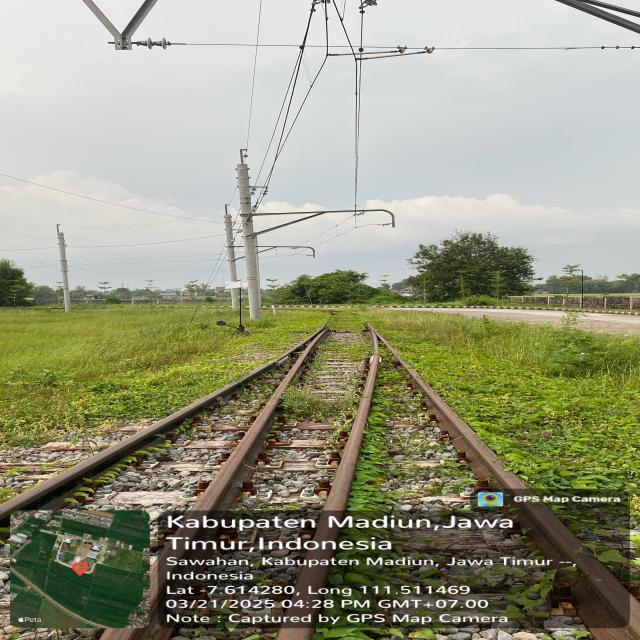rail-detection: (0, 340, 306, 520), (369, 326, 532, 497), (193, 326, 326, 514), (518, 501, 635, 624), (323, 352, 379, 519), (293, 569, 327, 600), (88, 438, 131, 462), (280, 621, 314, 640)
